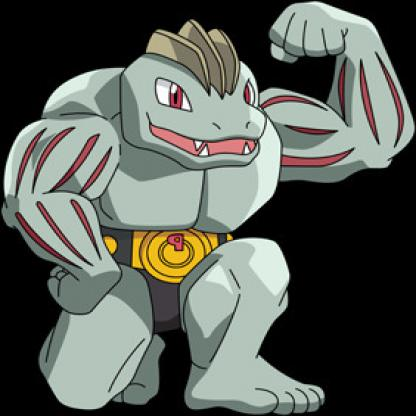Machoke: (1, 3, 416, 416)
